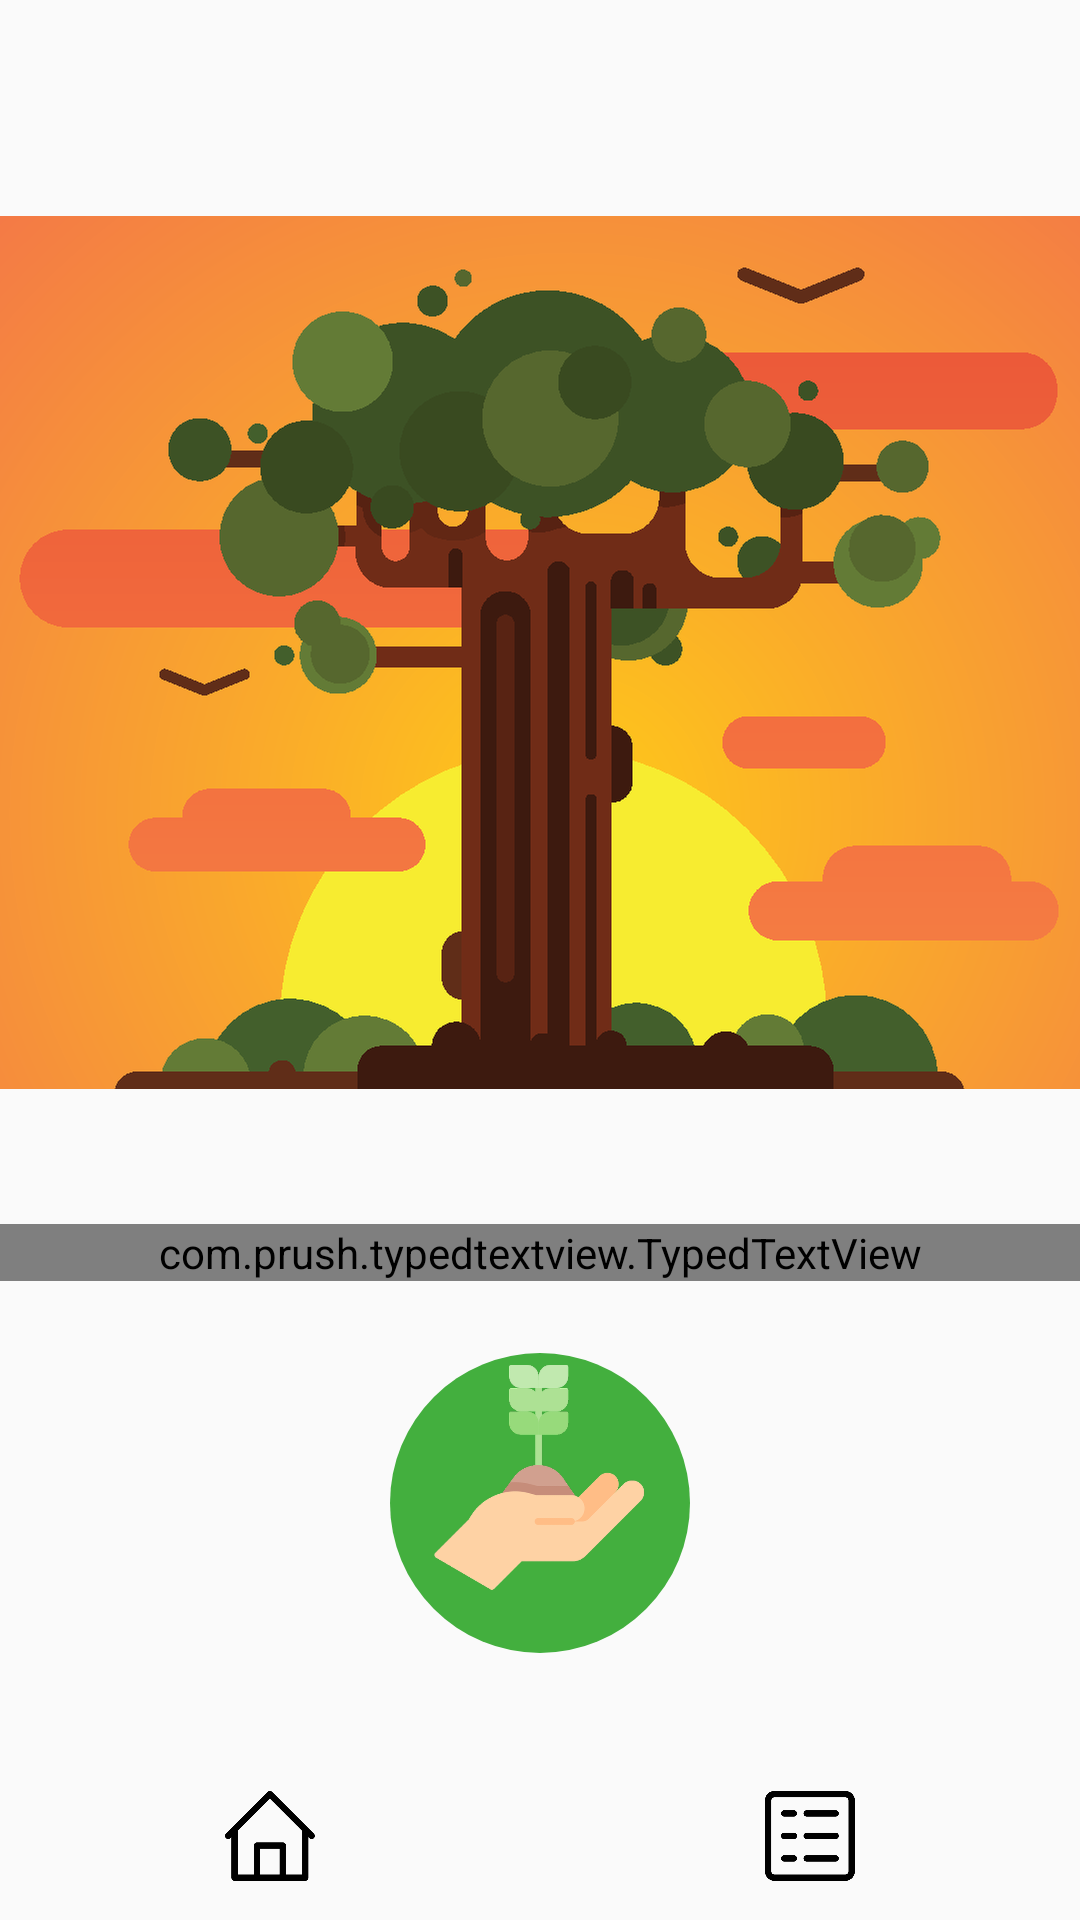

Icon click points for this 1080 × 1920 phone screenshot, format [x,y]:
home: [270,1836]
todolist: [810,1836]
